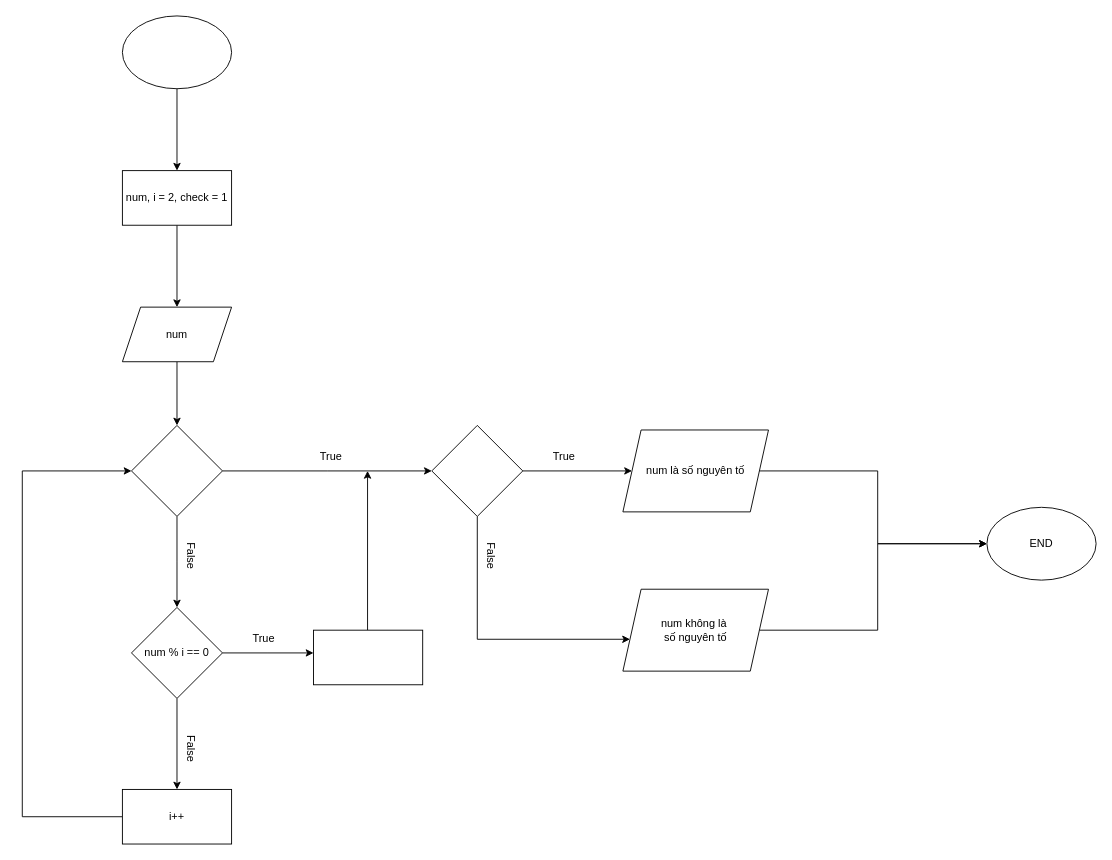
This 1112x860 diagram has some shape labels left out. Each missing label, with the centre of its shape:
"check = 0" belongs at point (368, 657).
"check == 1" belongs at point (477, 470).
"i <= num" belongs at point (176, 470).
"START" belongs at point (176, 52).
